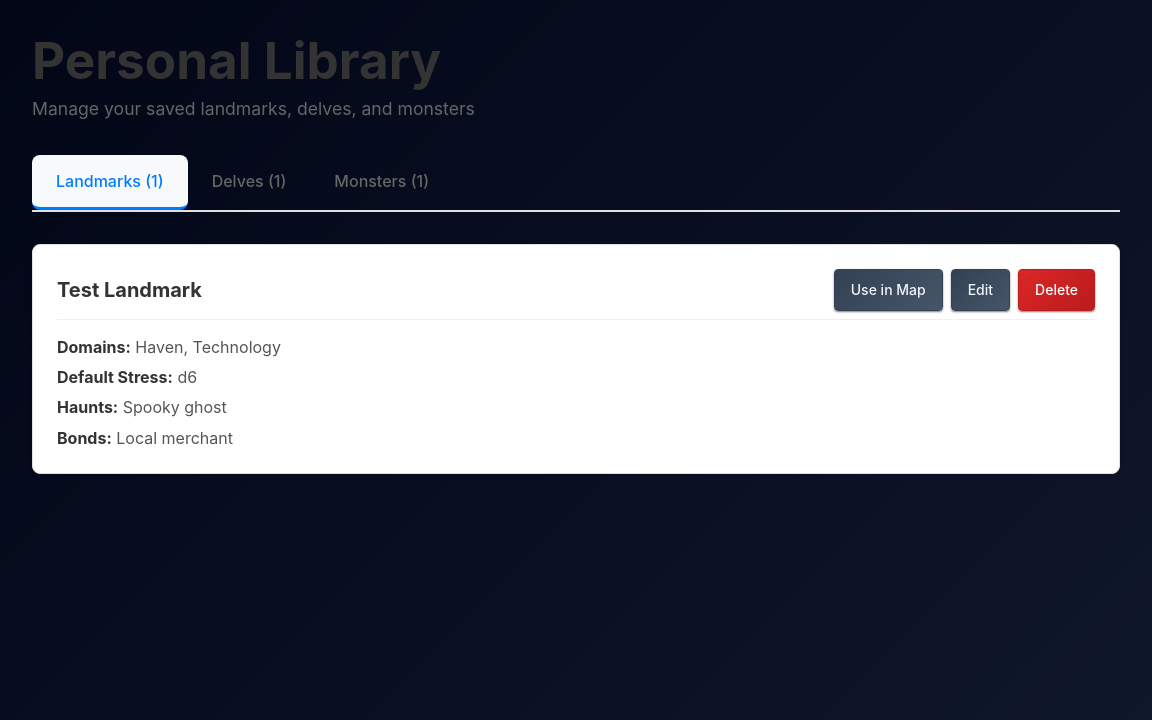
Test: LibraryPage › switches to delves tab when clicked
Step 1. Click the button "Delves (1)" → coordinates (249, 182), box 188,155 -> 310,210
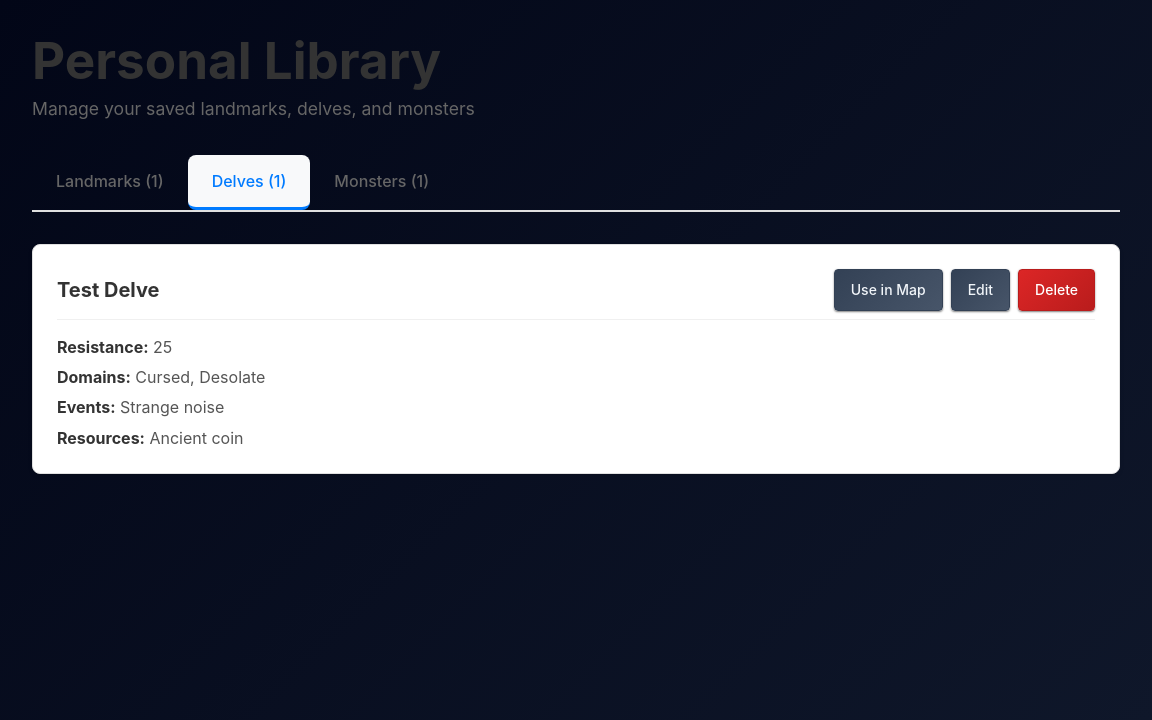
Check: the heading "Test Delve" is shown, box 57,275 -> 160,305
Check: the text "25" is shown, box 153,337 -> 172,357
Check: the text "Cursed, Desolate" is shown, box 135,367 -> 265,387
